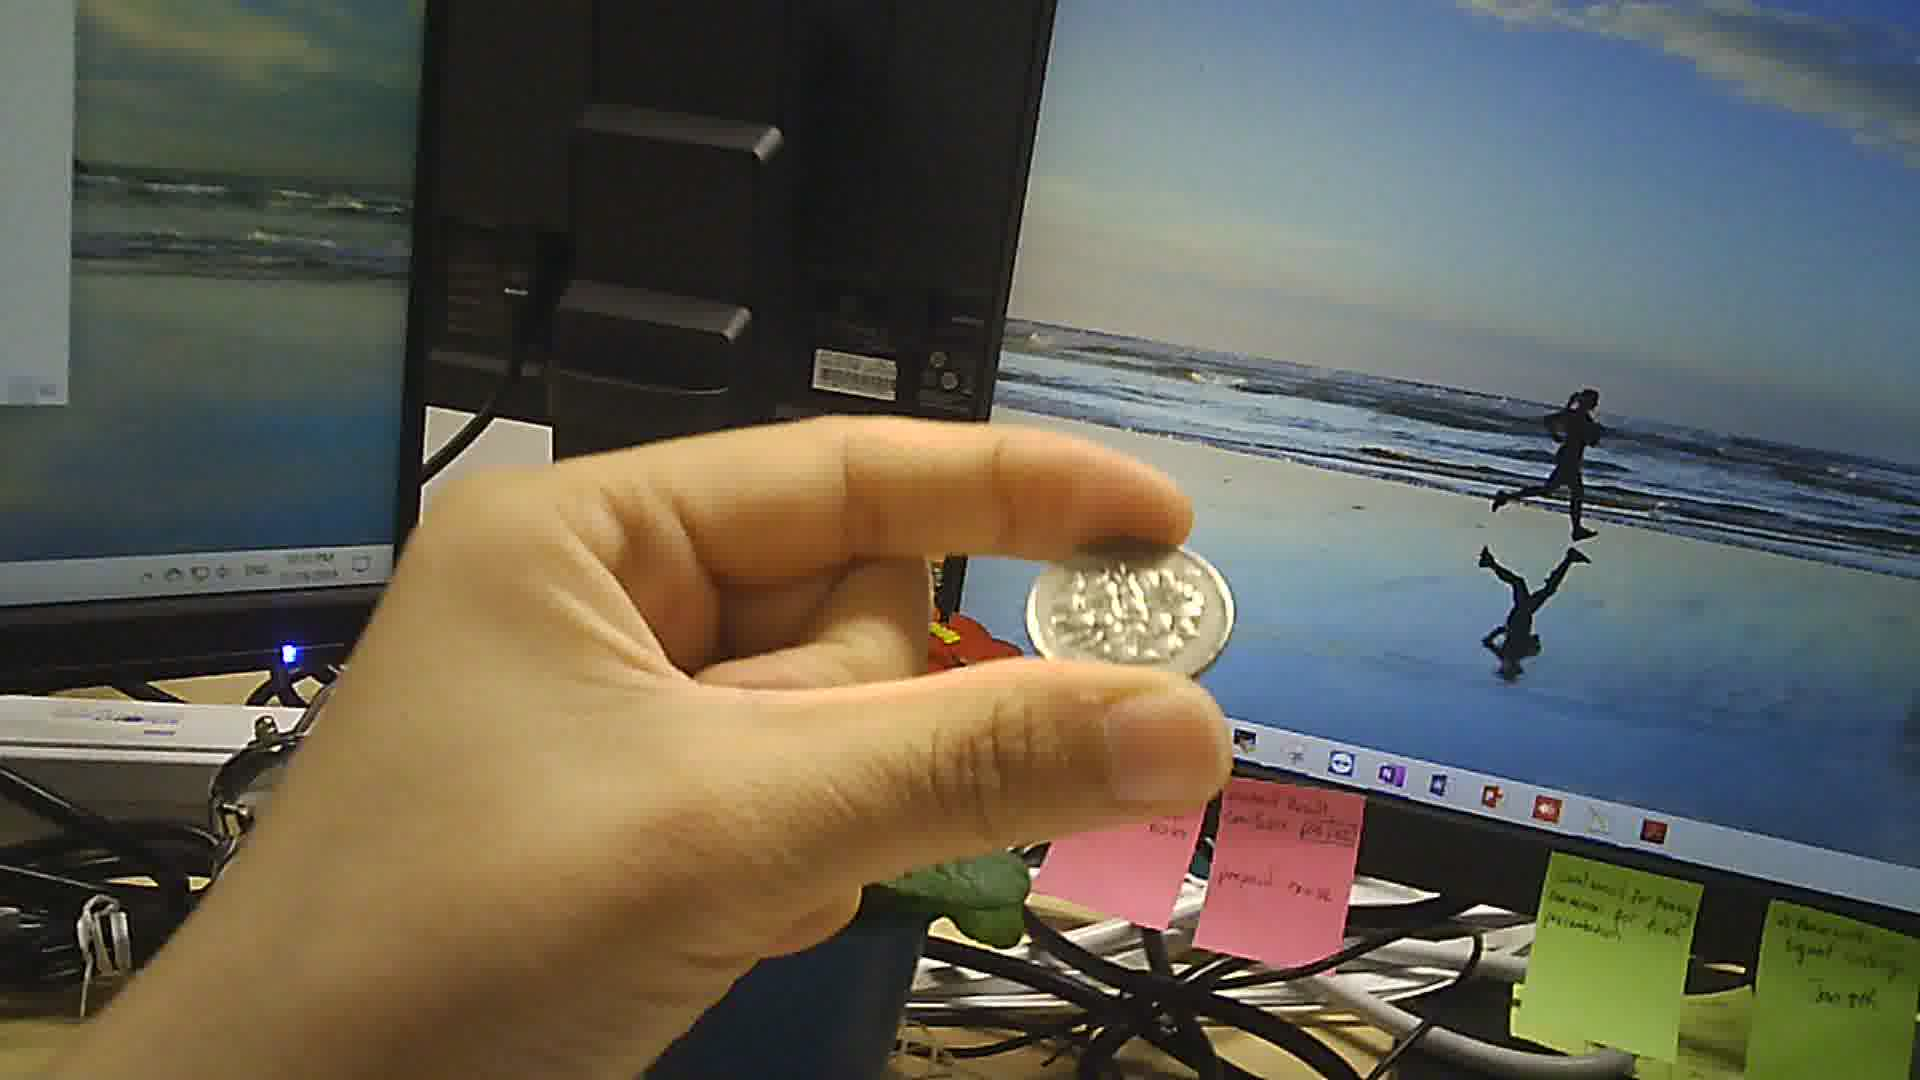100 Yen: (1018, 525, 1237, 679)
